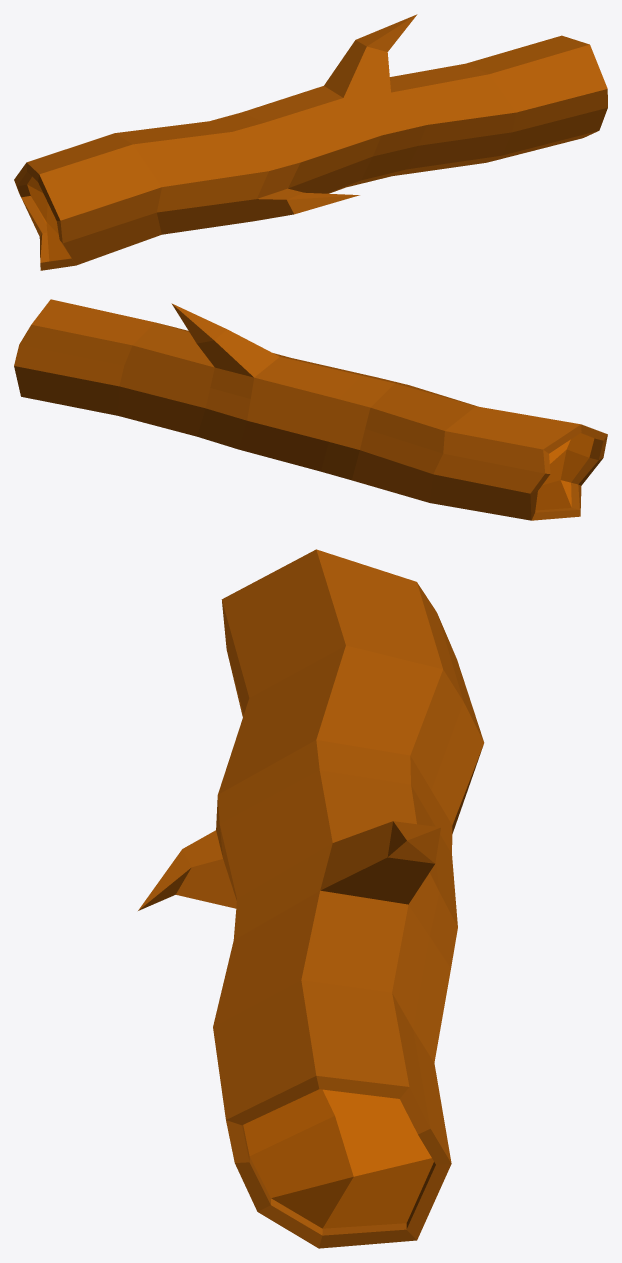
The model's file is Kotty.fbx.
3 views of the same model, one above another, from view 1: azimuth 30°, elevation 25°; view 2: azimuth 150°, elevation 25°; view 3: azimuth 270°, elevation 25° (orthographic). The views are drawn at different scales.
Parts seen in each view (by area): view 1: Kotty; view 2: Kotty; view 3: Kotty.
Boxes of the visible parts, bbox=[...] form: Kotty: bbox=[14, 14, 607, 270]; Kotty: bbox=[14, 299, 607, 520]; Kotty: bbox=[138, 549, 484, 1248].
Bounding box in the file's own units: 8.67 × 2.42 × 2.11.
